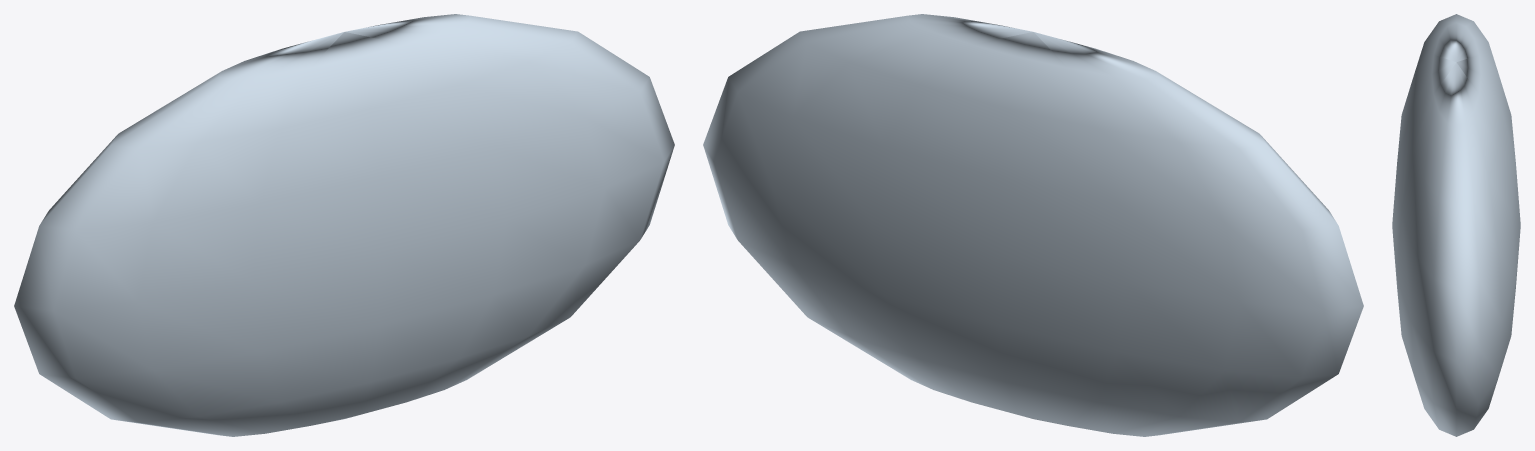
File: Diona_SignatureMixField_Overall_ThinColdHaze.fbx
The picture shows the model from 3 angles, left to right: view 1: azimuth 30°, elevation 25°; view 2: azimuth 150°, elevation 25°; view 3: azimuth 270°, elevation 25°; orthographic projection. The views are drawn at different scales.
Parts seen in each view (by area): view 1: PART_ThinColdHazeVolume; view 2: PART_ThinColdHazeVolume; view 3: PART_ThinColdHazeVolume.
Boxes of the visible parts, x1,y1,x2,y2 form: PART_ThinColdHazeVolume: (14,14,674,436); PART_ThinColdHazeVolume: (703,14,1363,436); PART_ThinColdHazeVolume: (1392,14,1520,436).
Bounding box in the file's own units: 200 × 112 × 40.
